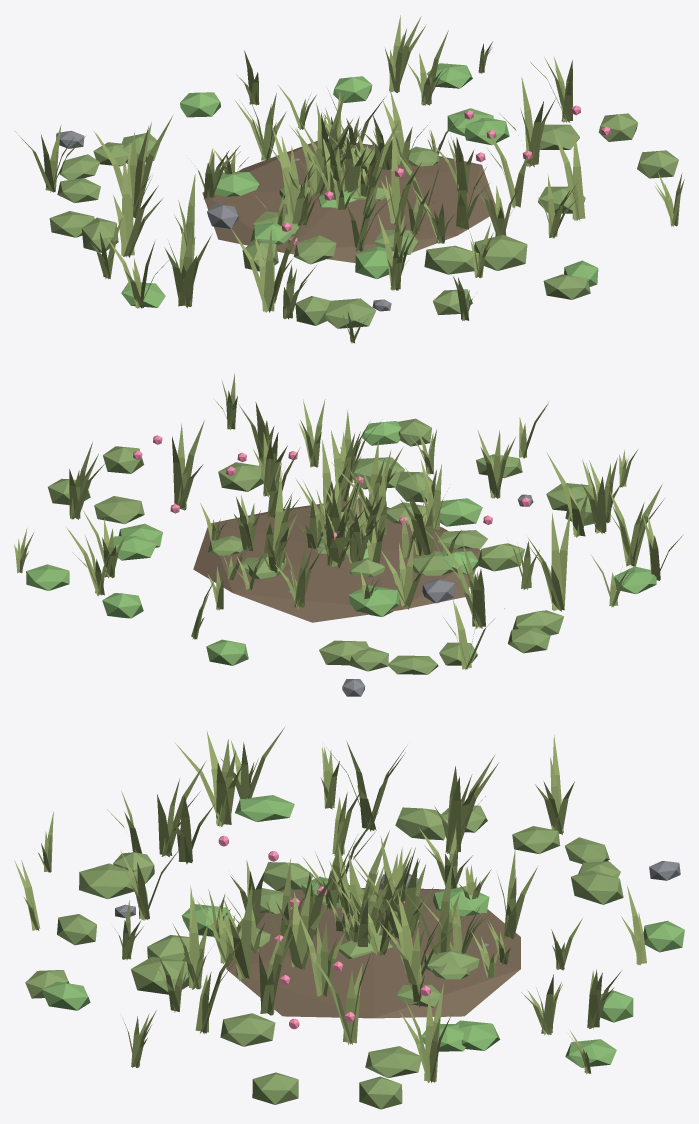
File: grass_patch.glb
3 renders of one model, top to bottom at view 1: azimuth 30°, elevation 25°; view 2: azimuth 150°, elevation 25°; view 3: azimuth 270°, elevation 25°, orthographic. The views are drawn at different scales.
Visible parts, largest first — view 1: Nt_GrassPatch; view 2: Nt_GrassPatch; view 3: Nt_GrassPatch.
Boxes of the visible parts, x1,y1,x2,y2 form: Nt_GrassPatch: [15, 15, 684, 343]; Nt_GrassPatch: [14, 373, 683, 696]; Nt_GrassPatch: [14, 727, 684, 1109].
Size of the model in its own units: 2.07 by 0.3607 by 1.87.
